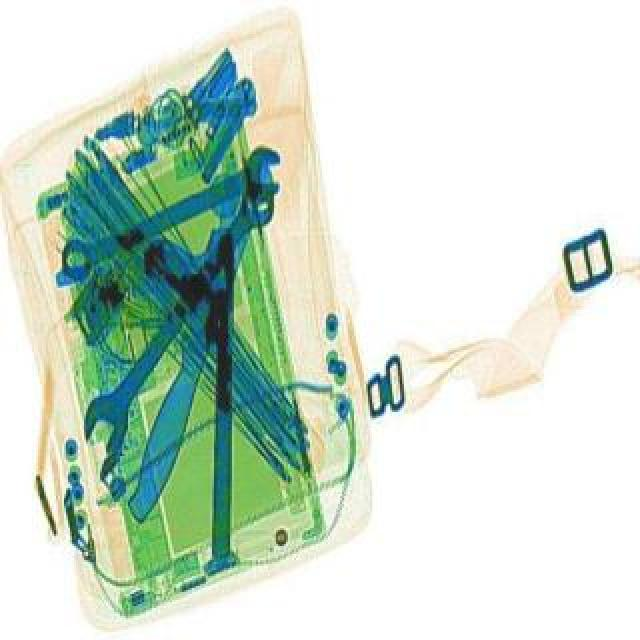gun: (142, 226, 238, 410)
scissors: (66, 174, 290, 458), (48, 136, 296, 288)
